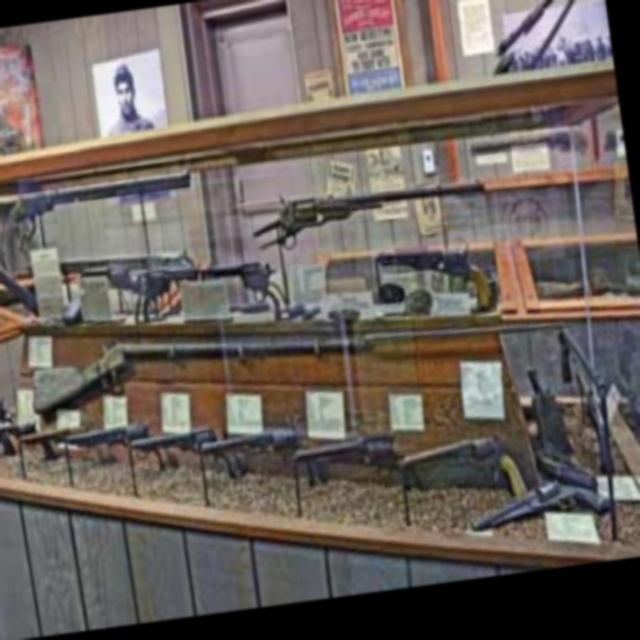gun: (241, 159, 500, 258), (151, 240, 298, 336)
